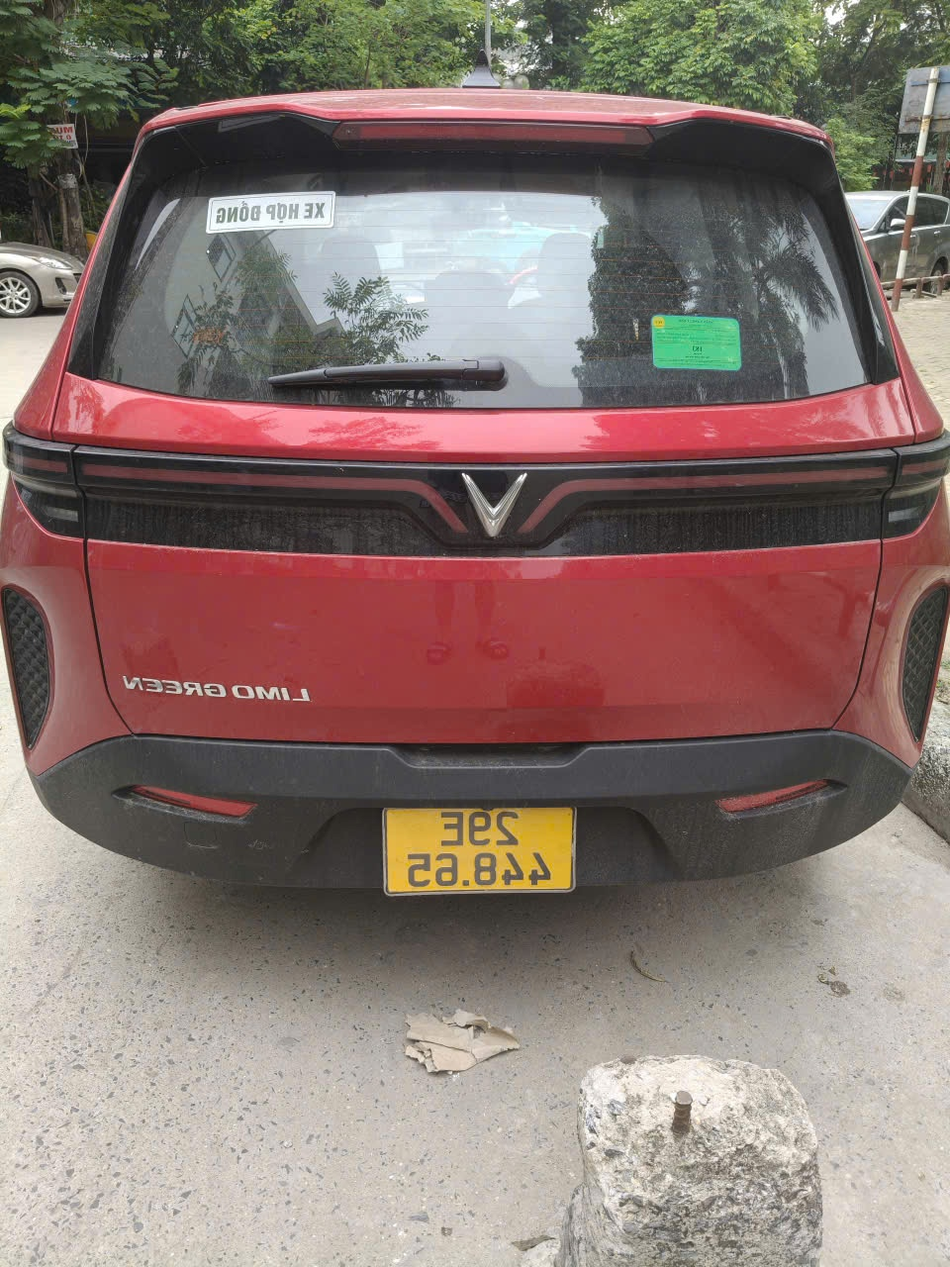plate: (404, 1013, 521, 1060)
